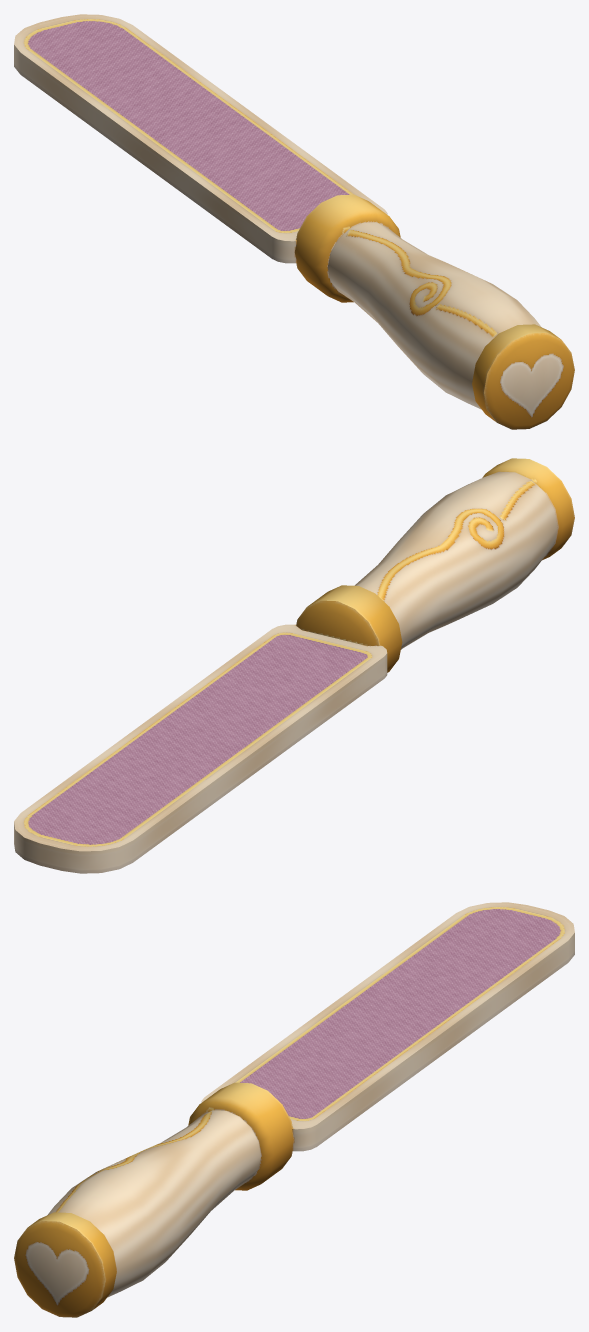
The model's file is hoof_file.glb.
The picture shows the model from 3 angles, top to bottom: view 1: azimuth 30°, elevation 25°; view 2: azimuth 150°, elevation 25°; view 3: azimuth 330°, elevation 25°; orthographic projection.
Visible parts, largest first — view 1: hoof_file; view 2: hoof_file; view 3: hoof_file.
Part boxes in pixels (x1,y1,x2,y2): hoof_file: (14, 14, 574, 429); hoof_file: (14, 458, 574, 873); hoof_file: (14, 902, 574, 1317).
Size of the model in its own units: 0.036 by 0.0324 by 0.2668.
Materials: 1 (1 with a texture image).
